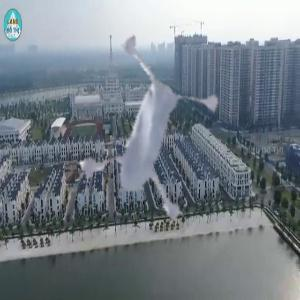drone: (17, 5, 264, 252)
